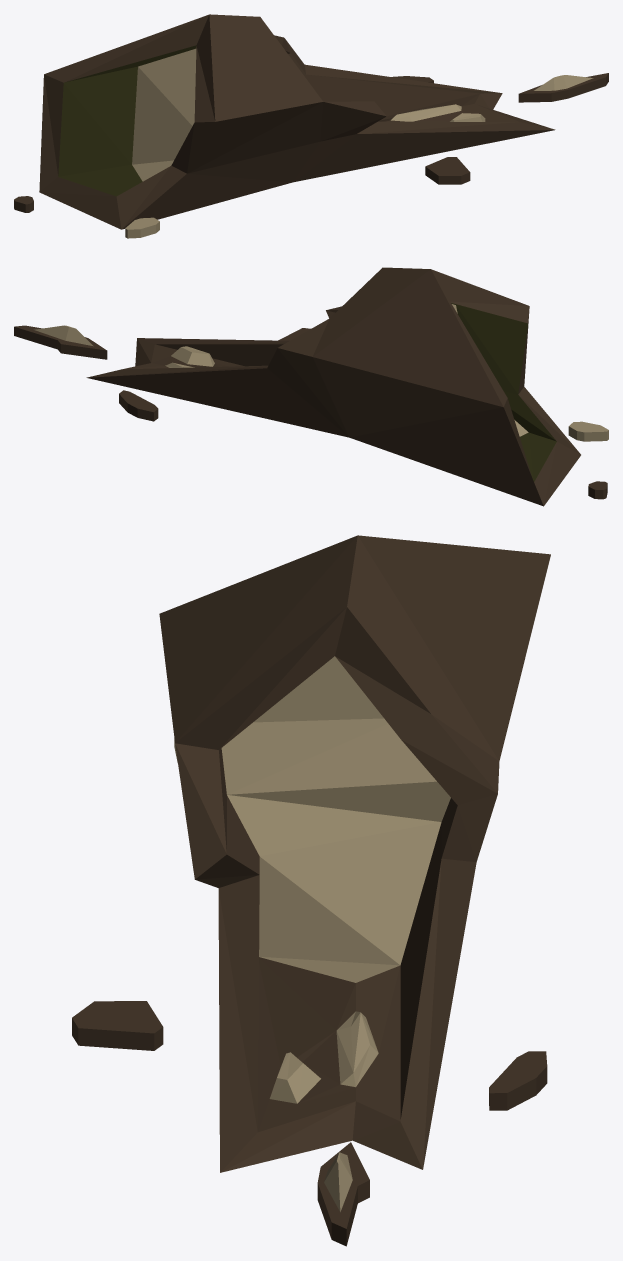
Rendered from Tree_F_05.FBX.
3 views of the same model, one above another, from view 1: azimuth 30°, elevation 25°; view 2: azimuth 150°, elevation 25°; view 3: azimuth 270°, elevation 25° (orthographic). The views are drawn at different scales.
Visible parts, largest first — view 1: Tree_F_05; view 2: Tree_F_05; view 3: Tree_F_05.
Boxes of the visible parts, x1=… form: Tree_F_05: x1=14, y1=14, x2=608, y2=238; Tree_F_05: x1=14, y1=267, x2=608, y2=506; Tree_F_05: x1=72, y1=535, x2=550, y2=1246.
Bounding box in the file's own units: 3.44 × 0.9533 × 1.24.
